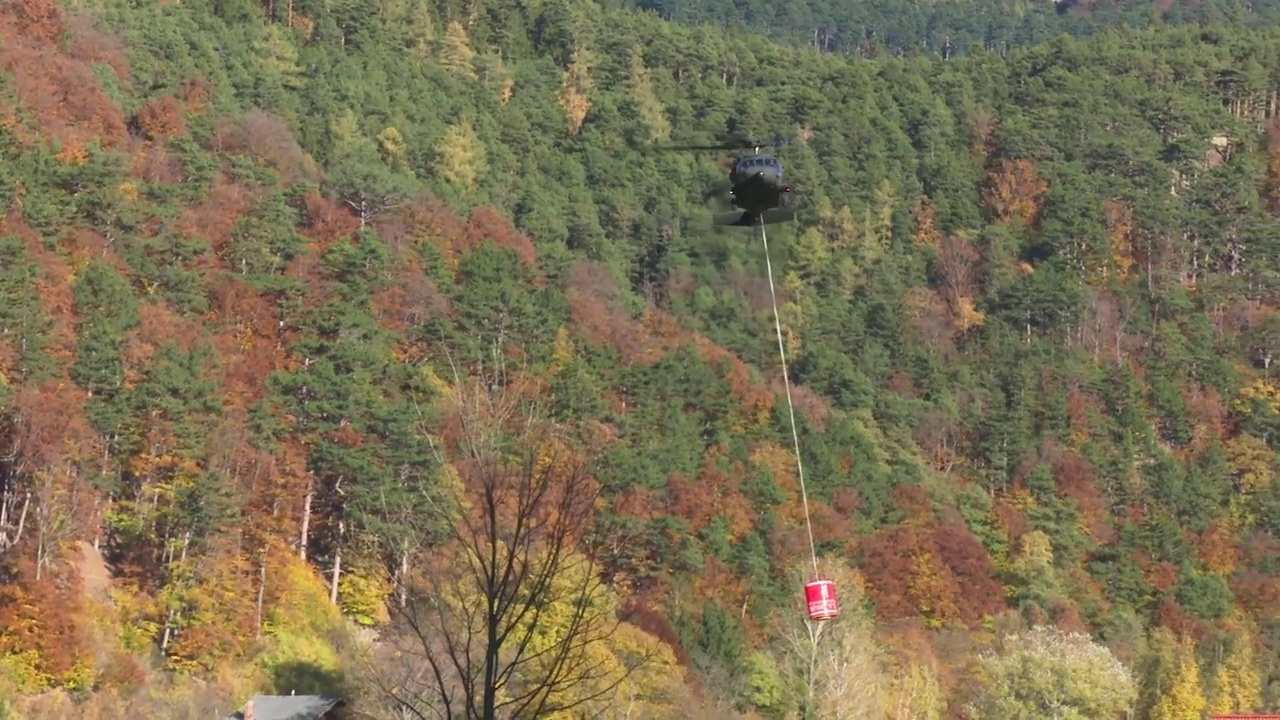heli: (714, 140, 798, 228)
